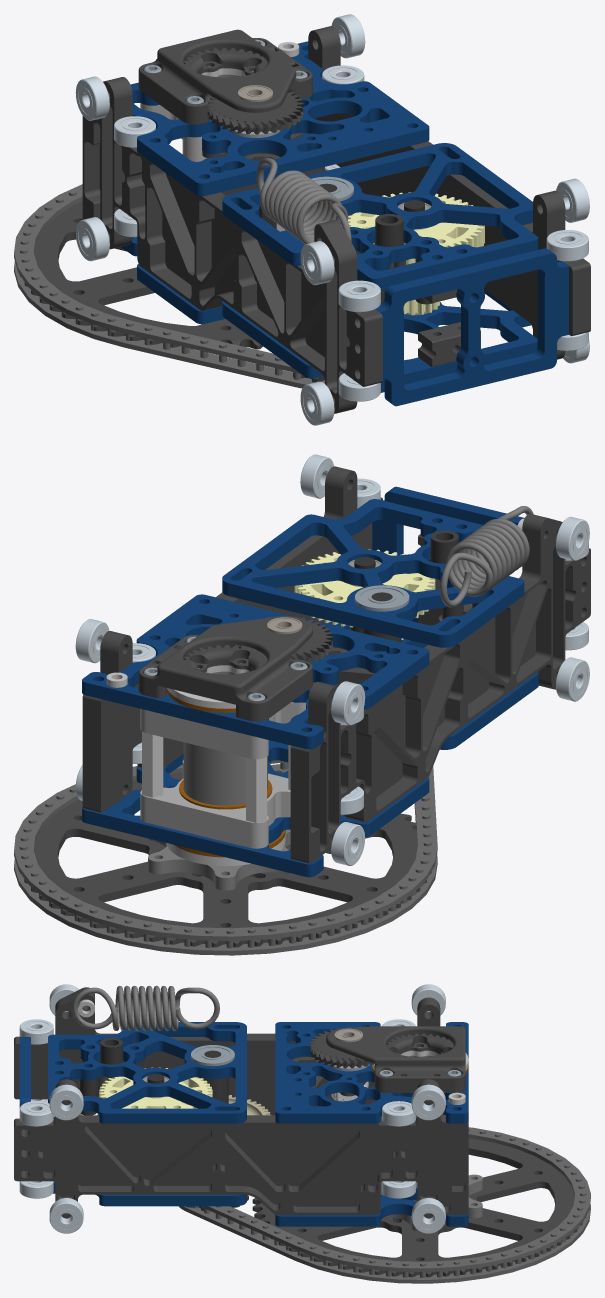
3 views of the same model, one above another, from view 1: azimuth 30°, elevation 25°; view 2: azimuth 150°, elevation 25°; view 3: azimuth 270°, elevation 25° (orthographic). The views are drawn at different scales.
Parts seen in each view (by area): view 1: Part 1, Part 13, Part 4, Part 11, 0.75" OD x 0.25" ID x .280" Radial Ball Bearing (TTB-0038) (×11), 65 links #35 chain, Part 14, Part 21, 60t Aluminum Plate Sprocket (#35 Chain, SplineXL Bore) (WCP-, Part 12, 5108N797_Music Wire Steel Extension Spring with Loop Ends, Spur gear (32 teeth) (×2) (+6 smaller); view 2: Part 1 (×2), Part 13, 60t Aluminum Plate Sprocket (#35 Chain, SplineXL Bore) (WCP-, 65 links #35 chain, Part 4, Part 14, Part 21, Part 2, 0.75" OD x 0.25" ID x .280" Radial Ball Bearing (TTB-0038) (×6), Part 5, 5108N797_Music Wire Steel Extension Spring with Loop Ends, Part 6 (+11 smaller); view 3: Part 14, Part 13, 65 links #35 chain, 60t Aluminum Plate Sprocket (#35 Chain, SplineXL Bore) (WCP-, Part 4, 0.75" OD x 0.25" ID x .280" Radial Ball Bearing (TTB-0038) (×11), Part 1, Part 21, 5108N797_Music Wire Steel Extension Spring with Loop Ends, Part 2, Spur gear (32 teeth) (×2), Part 12 (+5 smaller).
Boxes of the visible parts, x1,y1,x2,y2 form: Part 1: [82, 77, 382, 413]; Part 13: [222, 143, 538, 290]; Part 4: [130, 41, 429, 196]; Part 11: [375, 248, 568, 406]; 0.75" OD x 0.25" ID x .280" Radial Ball Bearing (TTB-0038) (×11): [75, 14, 589, 425]; 65 links #35 chain: [14, 184, 324, 388]; Part 14: [308, 26, 590, 359]; Part 21: [138, 29, 312, 124]; 60t Aluminum Plate Sprocket (#35 Chain, SplineXL Bore) (WCP-: [20, 201, 262, 349]; Part 12: [222, 289, 537, 392]; 5108N797_Music Wire Steel Extension Spring with Loop Ends: [256, 157, 351, 244]; Spur gear (32 teeth) (×2): [184, 48, 303, 134]; Part 1 (×2): [174, 513, 590, 863]; Part 13: [222, 499, 524, 647]; 60t Aluminum Plate Sprocket (#35 Chain, SplineXL Bore) (WCP-: [20, 770, 431, 947]; 65 links #35 chain: [14, 760, 437, 955]; Part 4: [82, 594, 429, 749]; Part 14: [82, 466, 382, 812]; Part 21: [138, 616, 312, 721]; Part 2: [82, 740, 429, 877]; 0.75" OD x 0.25" ID x .280" Radial Ball Bearing (TTB-0038) (×6): [75, 454, 589, 865]; Part 5: [140, 760, 290, 848]; 5108N797_Music Wire Steel Extension Spring with Loop Ends: [440, 506, 533, 607]; Part 6: [140, 702, 305, 759]; Part 14: [14, 1079, 468, 1218]; Part 13: [48, 1022, 246, 1123]; 65 links #35 chain: [179, 1127, 590, 1283]; 60t Aluminum Plate Sprocket (#35 Chain, SplineXL Bore) (WCP-: [252, 1138, 585, 1277]; Part 4: [275, 1022, 468, 1123]; 0.75" OD x 0.25" ID x .280" Radial Ball Bearing (TTB-0038) (×11): [19, 984, 445, 1233]; Part 1: [14, 987, 440, 1115]; Part 21: [326, 1026, 465, 1092]; 5108N797_Music Wire Steel Extension Spring with Loop Ends: [72, 985, 219, 1031]; Part 2: [275, 1187, 468, 1226]; Spur gear (32 teeth) (×2): [310, 1028, 453, 1068]; Part 12: [53, 1114, 246, 1206].
Size of the model in its own units: 0.1908 by 0.1183 by 0.3224.
